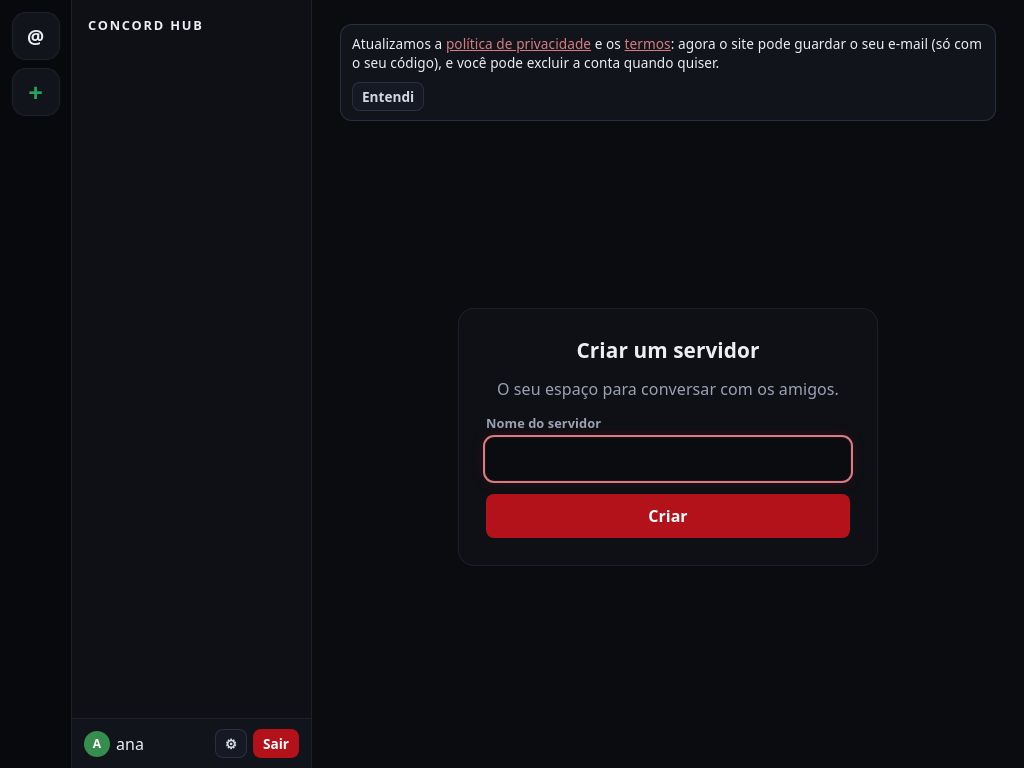
servidores › quem não tem servidor é convidado a criar o primeiro, e ele aparece com #geral
Type "Os Parças" into the field labelled "Nome do servidor" at (668, 458), box [486,438,850,480]
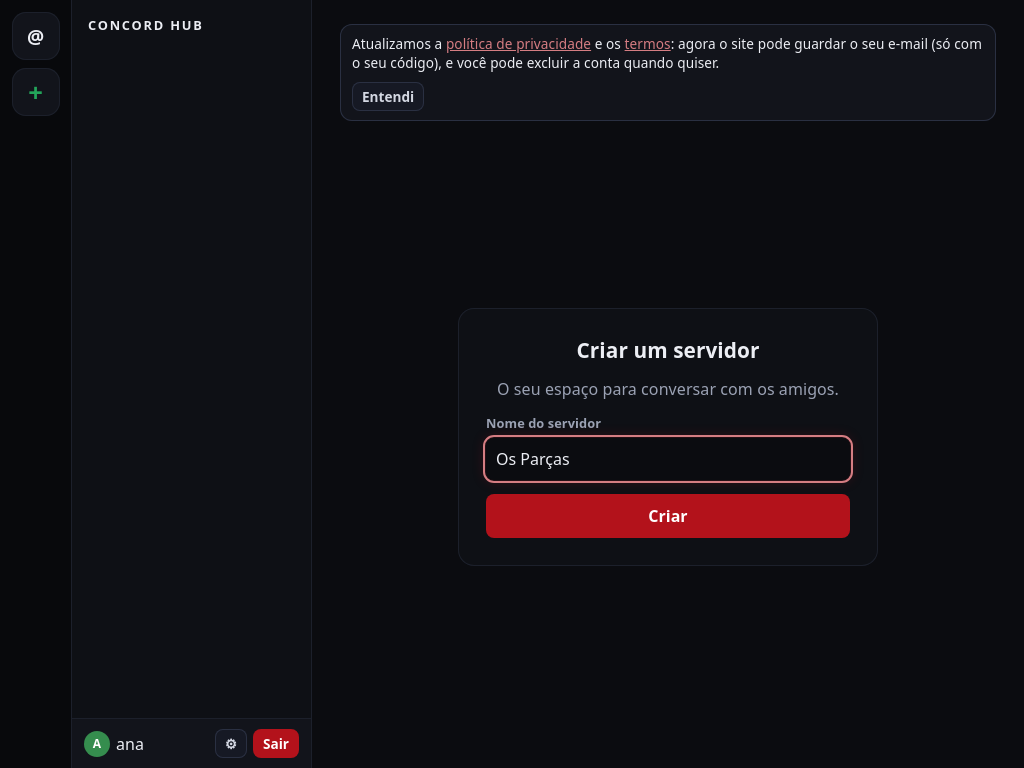
Click the button "Criar" at (668, 516), box [486,494,850,538]
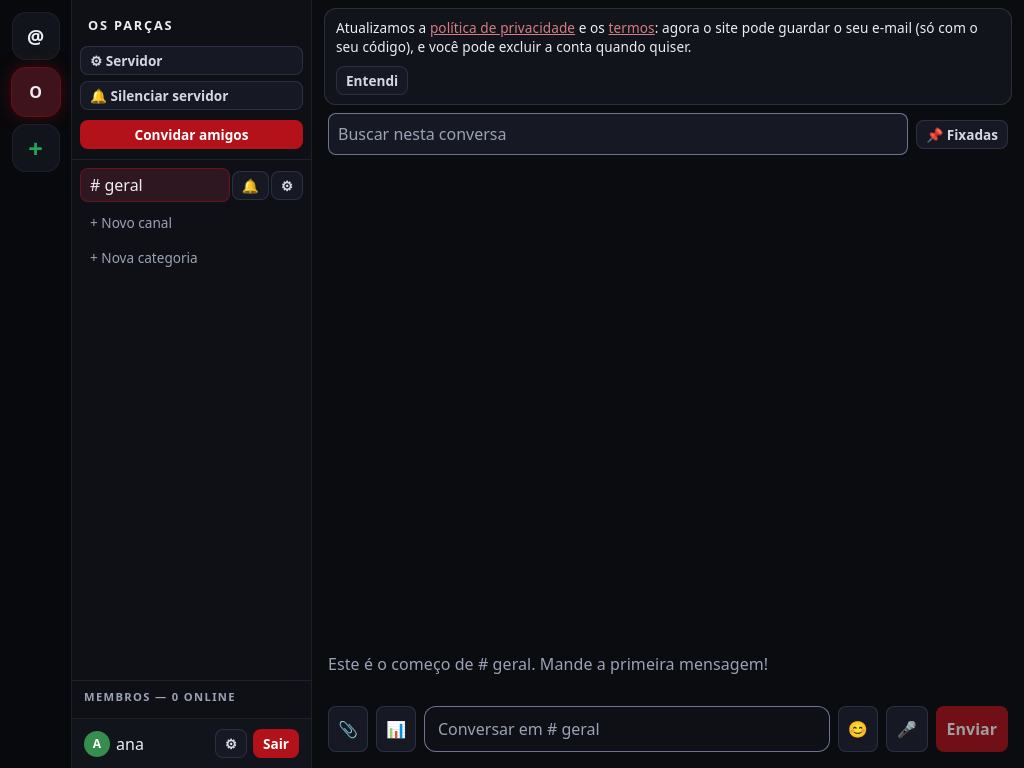
Expected: the button named "Os Parças" is shown, [12,68,60,116]
Expected: the button "# geral" is shown, [80,168,230,202]
